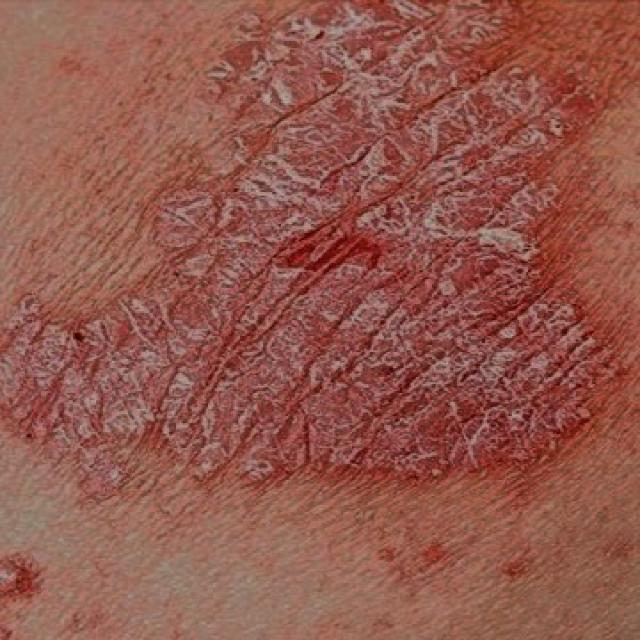Psoriasis: (0, 0, 638, 505), (0, 546, 59, 614)
